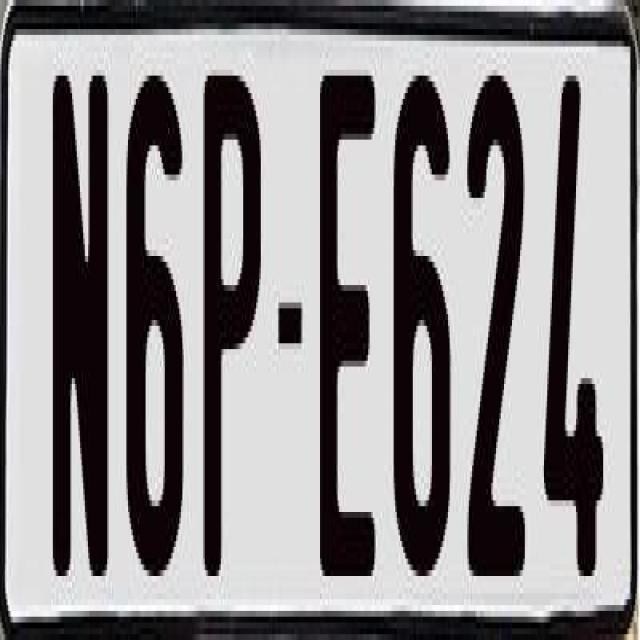2: (462, 58, 520, 588)
4: (544, 58, 613, 558)
6: (127, 58, 191, 576), (394, 76, 453, 576)
E: (320, 76, 384, 594)
N: (52, 58, 111, 558)
P: (202, 76, 269, 606)
